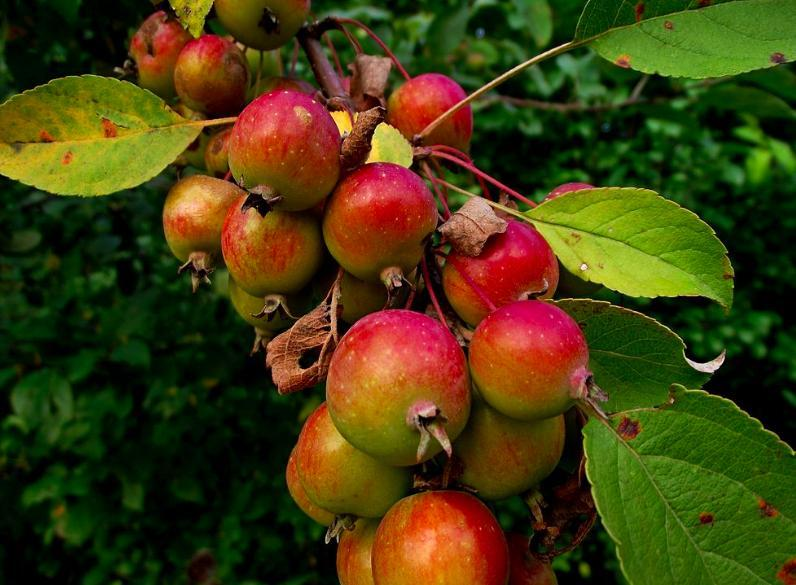apple: (325, 306, 473, 466), (225, 85, 343, 215), (467, 297, 595, 415), (370, 487, 512, 585), (295, 403, 405, 525), (324, 162, 439, 278), (440, 219, 559, 326), (222, 192, 327, 299), (161, 174, 252, 266), (386, 73, 475, 153), (174, 33, 247, 116)
